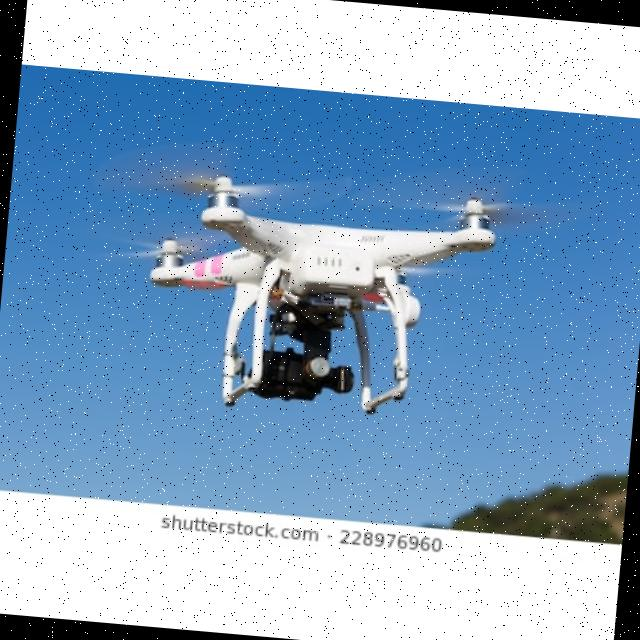Drones: (150, 162, 495, 420)
